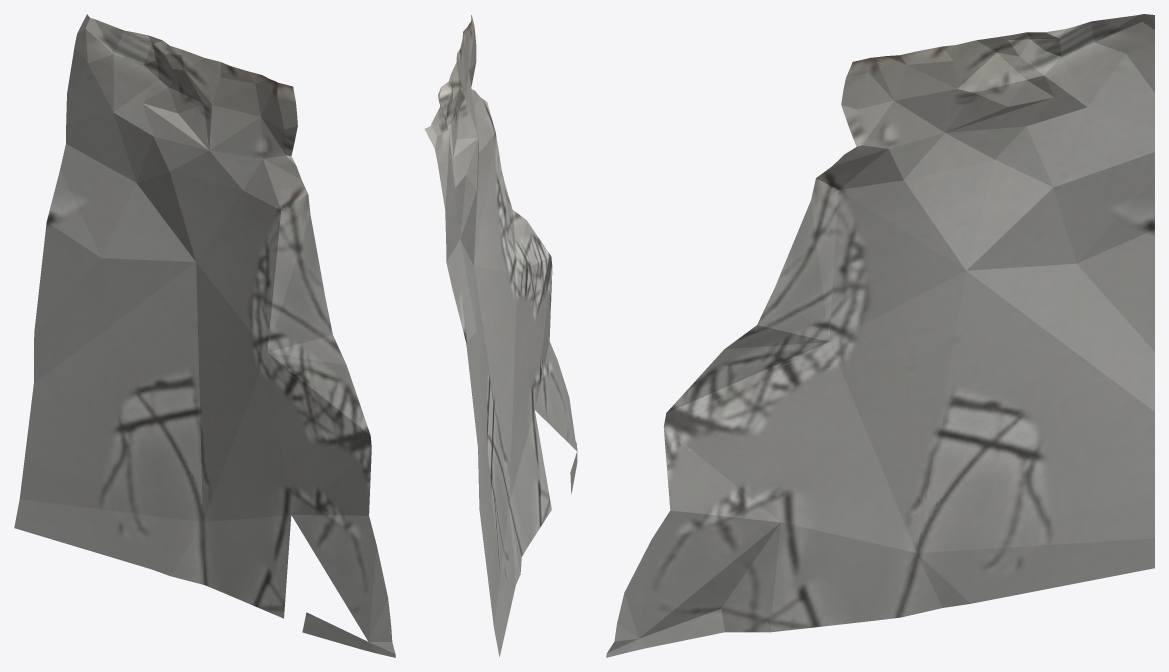
3 views of the same model, side by side, from view 1: azimuth 30°, elevation 25°; view 2: azimuth 150°, elevation 25°; view 3: azimuth 270°, elevation 25° (orthographic). The views are drawn at different scales.
Bounding box in the file's own units: 0.5406 × 1.67 × 1.4.
Materials: 2 (2 with a texture image).
